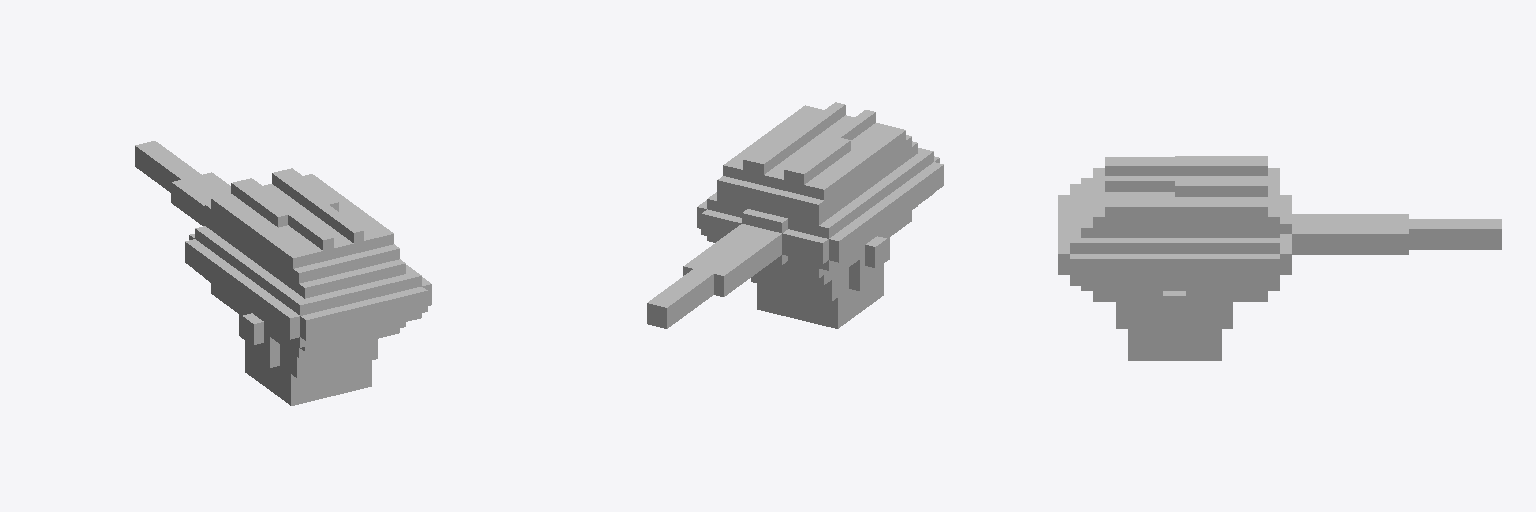
File: Tower Head Rifled Sniper.obj
3 views of the same model, side by side, from view 1: azimuth 30°, elevation 25°; view 2: azimuth 150°, elevation 25°; view 3: azimuth 270°, elevation 25° (orthographic).
Parts seen in each view (by area): view 1: object 1; view 2: object 1; view 3: object 1.
Boxes of the visible parts, x1=… form: object 1: x1=135, y1=141, x2=431, y2=405; object 1: x1=647, y1=102, x2=943, y2=328; object 1: x1=1058, y1=156, x2=1501, y2=360.
Bounding box in the file's own units: 1.4 × 1.6 × 3.8.